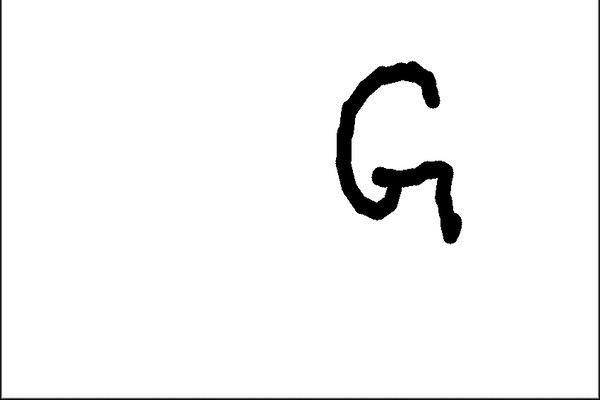G: (328, 58, 472, 249)
